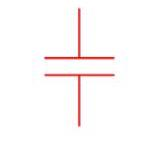Capacitor: (39, 37, 120, 100)
